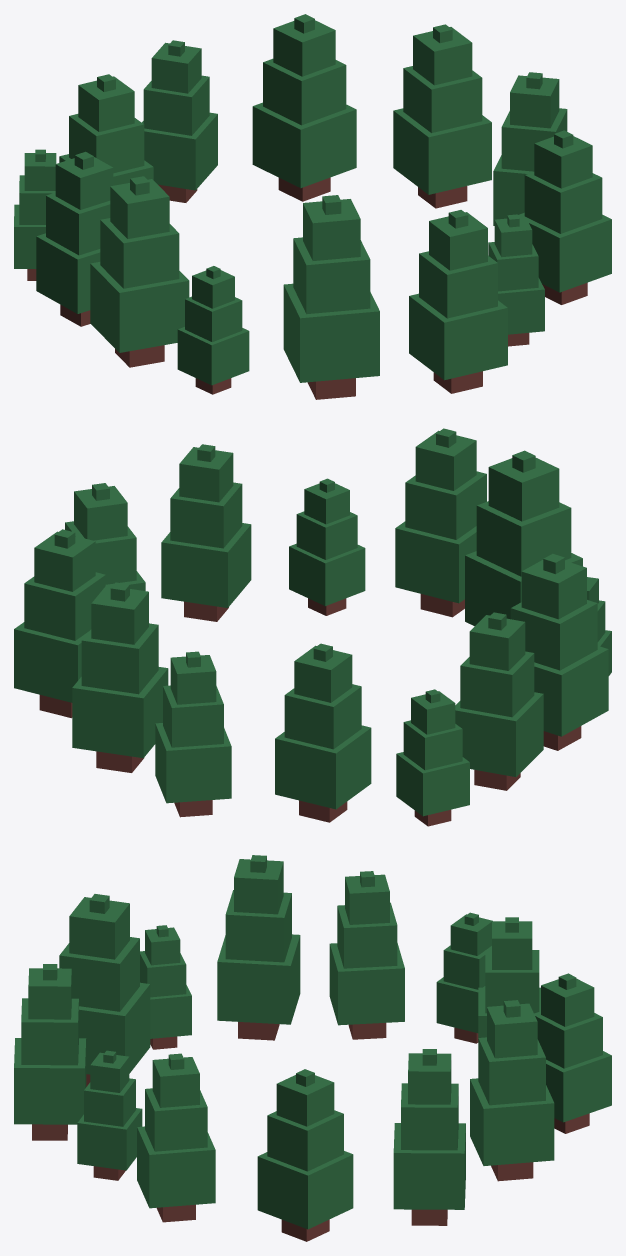
File: tree_prefab.fbx
The picture shows the model from 3 angles, top to bottom: view 1: azimuth 30°, elevation 25°; view 2: azimuth 150°, elevation 25°; view 3: azimuth 270°, elevation 25°; orthographic projection. The views are drawn at different scales.
Visible parts, largest first — view 1: tree.011, tree.001, tree.009, tree.002, tree.012, tree.003, tree, tree.008, tree.010, tree.004, tree.005, tree.007 (+1 smaller); view 2: tree.001, tree.004, tree.009, tree.012, tree.003, tree.011, tree.008, tree.002, tree, tree.007, tree.006, tree.005 (+1 smaller); view 3: tree.005, tree.009, tree.001, tree.011, tree.002, tree.012, tree.003, tree.008, tree, tree.007, tree.006, tree.010 (+1 smaller).
Part boxes in pixels (x1=…): tree.011: x1=283, y1=195, x2=379, y2=399; tree.001: x1=252, y1=14, x2=356, y2=201; tree.009: x1=90, y1=176, x2=189, y2=367; tree.002: x1=393, y1=24, x2=491, y2=208; tree.012: x1=409, y1=210, x2=507, y2=393; tree.003: x1=518, y1=130, x2=611, y2=304; tree: x1=142, y1=40, x2=217, y2=202; tree.008: x1=36, y1=151, x2=113, y2=326; tree.010: x1=177, y1=266, x2=249, y2=394; tree.004: x1=59, y1=74, x2=153, y2=185; tree.005: x1=493, y1=72, x2=567, y2=225; tree.007: x1=488, y1=214, x2=544, y2=346; tree.001: x1=72, y1=582, x2=168, y2=772; tree.004: x1=275, y1=643, x2=371, y2=822; tree.009: x1=510, y1=553, x2=608, y2=750; tree.012: x1=395, y1=428, x2=486, y2=617; tree.003: x1=161, y1=444, x2=251, y2=621; tree.011: x1=465, y1=450, x2=582, y2=626; tree.008: x1=455, y1=612, x2=543, y2=790; tree.002: x1=14, y1=529, x2=105, y2=718; tree: x1=155, y1=651, x2=231, y2=817; tree.007: x1=289, y1=478, x2=365, y2=615; tree.006: x1=396, y1=689, x2=469, y2=826; tree.005: x1=65, y1=483, x2=145, y2=590; tree.005: x1=257, y1=1069, x2=353, y2=1241; tree.009: x1=217, y1=855, x2=300, y2=1040; tree.001: x1=470, y1=1000, x2=554, y2=1181; tree.011: x1=59, y1=894, x2=150, y2=1086; tree.002: x1=393, y1=1049, x2=465, y2=1225; tree.012: x1=14, y1=964, x2=86, y2=1140; tree.003: x1=137, y1=1053, x2=215, y2=1222; tree.008: x1=329, y1=871, x2=404, y2=1039; tree: x1=534, y1=973, x2=611, y2=1133; tree.007: x1=77, y1=1050, x2=142, y2=1180; tree.006: x1=436, y1=912, x2=492, y2=1043; tree.010: x1=140, y1=925, x2=191, y2=1049.
Bounding box in the file's own units: 15.54 × 5.69 × 16.52.
